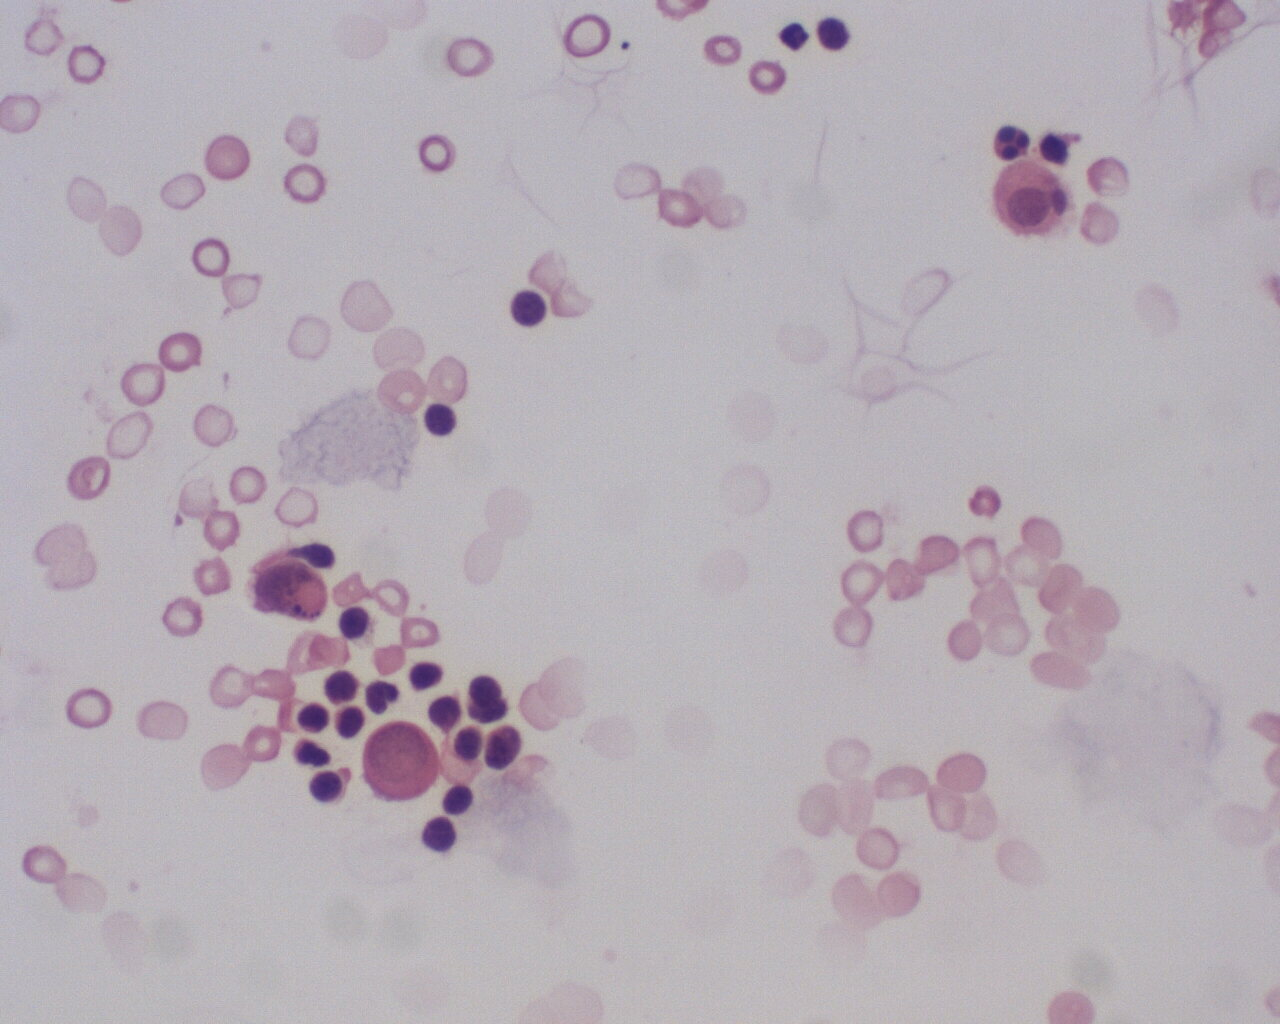ab: (360, 714, 442, 804), (338, 603, 375, 641)
lymph: (417, 811, 465, 860), (417, 399, 462, 439), (508, 287, 550, 329), (294, 699, 334, 738)
meso: (990, 160, 1069, 239)
neutro: (992, 121, 1034, 162)
